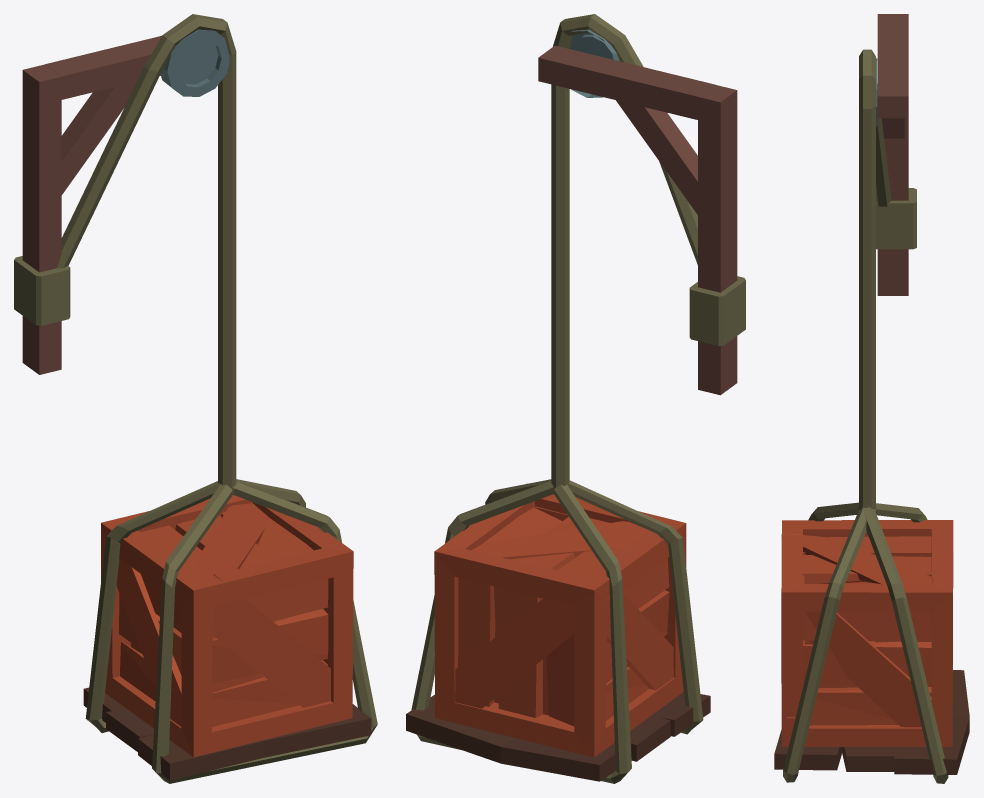
The model's file is Lift.fbx.
The picture shows the model from 3 angles, left to right: view 1: azimuth 30°, elevation 25°; view 2: azimuth 150°, elevation 25°; view 3: azimuth 270°, elevation 25°; orthographic projection. The views are drawn at different scales.
Visible parts, largest first — view 1: Lift; view 2: Lift; view 3: Lift.
Part boxes in pixels (x1,y1,x2,y2): Lift: (14, 14, 377, 783); Lift: (406, 14, 745, 783); Lift: (774, 14, 969, 783).
Bounding box in the file's own units: 3.73 × 8.69 × 2.28.
